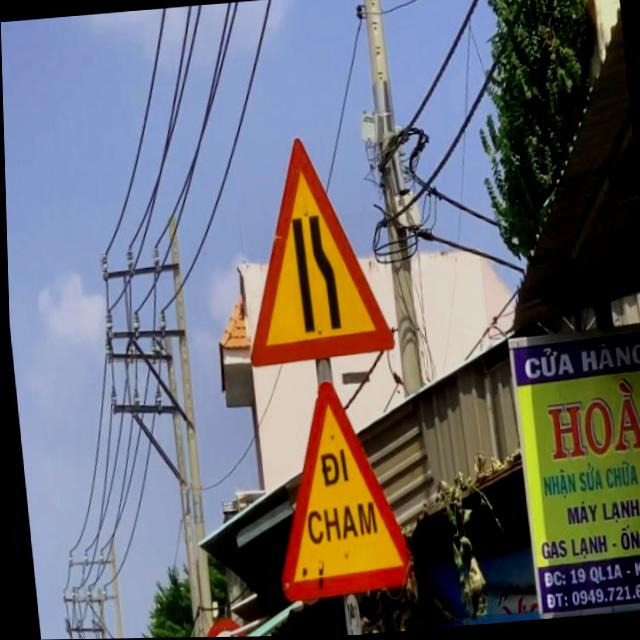Di cham: (256, 372, 417, 608)
Giao nhau voi duong khong uu tien ben trai: (224, 126, 395, 372)
